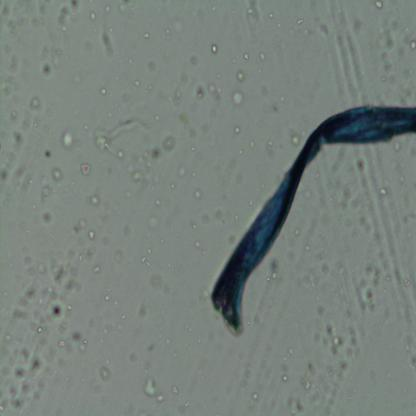Background material: (319, 5, 361, 90), (371, 18, 416, 88), (341, 184, 390, 238), (5, 348, 50, 406), (95, 116, 145, 158), (285, 365, 327, 409), (384, 250, 416, 300), (13, 289, 46, 333), (356, 262, 382, 315), (0, 0, 46, 29), (322, 327, 362, 360), (0, 128, 22, 186), (41, 293, 74, 329), (314, 250, 348, 284), (48, 262, 84, 292), (20, 255, 51, 287), (324, 359, 346, 402), (66, 233, 97, 263), (43, 33, 69, 65), (149, 137, 178, 164), (57, 0, 81, 32), (58, 331, 88, 352), (70, 216, 95, 240), (163, 13, 187, 38), (143, 376, 165, 403), (243, 0, 261, 32), (35, 179, 58, 204), (128, 160, 151, 185), (0, 75, 20, 103), (312, 302, 326, 342), (175, 74, 194, 103), (194, 82, 222, 101), (150, 272, 172, 296), (10, 106, 30, 132), (180, 107, 197, 136), (99, 31, 115, 60), (403, 334, 416, 369), (14, 171, 36, 191), (265, 258, 281, 284), (91, 313, 109, 335), (142, 210, 159, 231), (399, 211, 412, 238), (97, 362, 113, 382), (295, 14, 310, 35), (264, 136, 276, 161), (110, 248, 127, 265), (351, 14, 366, 33), (188, 52, 202, 72), (134, 299, 148, 319), (39, 62, 54, 80), (86, 193, 104, 207), (61, 132, 76, 148), (140, 247, 152, 267), (70, 70, 84, 87), (79, 160, 92, 178), (287, 130, 300, 148), (40, 209, 55, 224), (28, 97, 44, 111), (145, 56, 158, 73), (218, 204, 230, 222), (50, 168, 64, 182), (175, 401, 191, 413), (224, 230, 236, 246), (119, 1, 132, 15), (113, 145, 125, 160), (281, 344, 291, 362), (232, 91, 244, 106), (131, 72, 141, 89), (354, 160, 366, 174), (311, 167, 323, 181), (129, 350, 141, 364), (141, 360, 153, 374), (302, 187, 312, 203), (56, 354, 68, 367), (101, 292, 114, 304), (121, 222, 130, 238), (399, 168, 408, 184), (282, 364, 290, 382), (123, 184, 133, 198), (201, 209, 211, 223), (236, 68, 245, 83), (389, 141, 400, 153), (3, 330, 11, 346), (31, 113, 40, 127), (169, 384, 179, 396), (154, 194, 162, 209), (374, 0, 384, 12), (193, 188, 203, 200), (262, 86, 270, 100), (379, 186, 389, 197), (269, 104, 278, 116), (233, 124, 242, 136), (92, 263, 101, 275), (103, 4, 115, 13), (82, 121, 92, 131), (111, 71, 120, 82), (145, 342, 155, 351), (119, 313, 127, 324), (180, 165, 186, 179), (197, 332, 204, 344), (211, 43, 218, 55), (189, 169, 197, 179), (304, 242, 312, 252), (258, 180, 268, 188), (42, 150, 52, 158), (249, 139, 256, 150), (169, 180, 176, 191), (242, 52, 250, 61), (260, 51, 266, 63), (100, 87, 108, 96), (252, 392, 259, 402), (278, 91, 285, 101), (409, 40, 416, 50), (142, 33, 151, 40), (193, 240, 200, 249), (90, 11, 96, 21), (187, 322, 193, 332), (174, 348, 179, 360), (294, 226, 300, 236), (189, 144, 196, 152), (164, 336, 171, 343), (3, 289, 9, 297), (237, 147, 243, 155), (108, 112, 114, 120), (154, 115, 160, 123), (128, 58, 134, 65), (248, 200, 254, 207), (204, 247, 208, 256), (192, 223, 198, 229), (165, 259, 170, 266), (270, 12, 274, 20), (276, 22, 282, 27), (162, 239, 164, 244)
Cotton: (208, 101, 416, 338)
